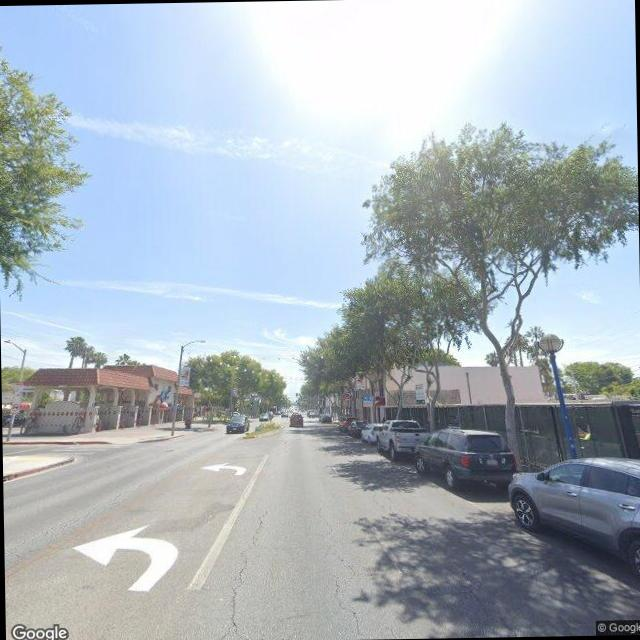crack: (206, 501, 272, 640), (328, 572, 364, 639), (312, 498, 332, 536)
